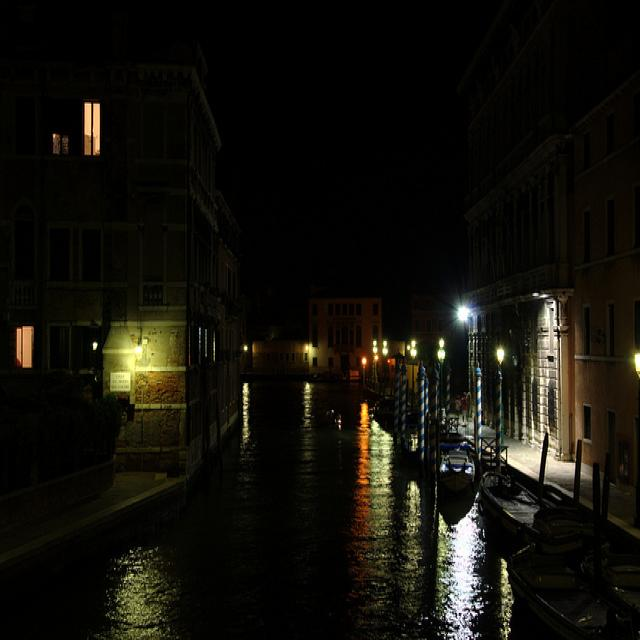Boat: (507, 531, 629, 640), (476, 463, 603, 562), (420, 418, 487, 522), (599, 537, 640, 624)
